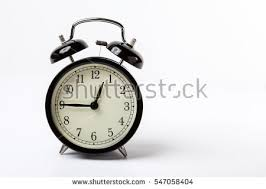alarm_clock: (49, 20, 143, 157)
